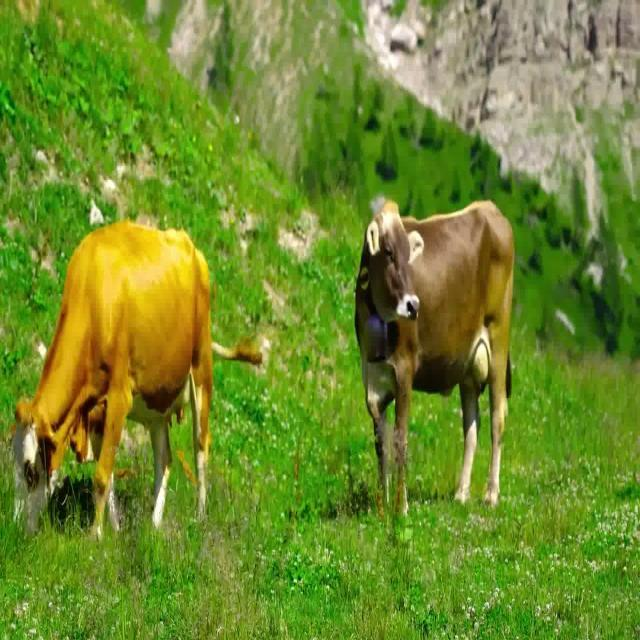cow: (16, 222, 212, 536), (355, 201, 514, 513)
